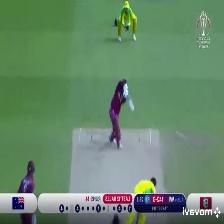ball: (171, 130, 184, 138)
batsman: (106, 77, 136, 149)
